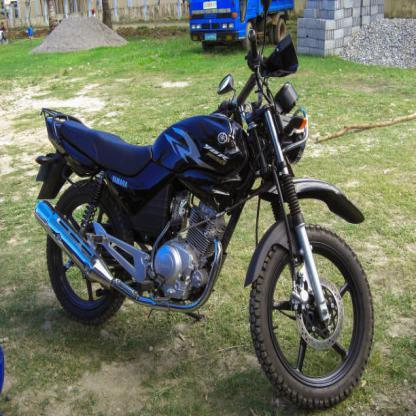Motorcycle: (35, 5, 379, 415)
